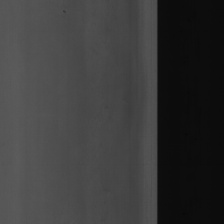inclusion: (61, 6, 69, 16)
